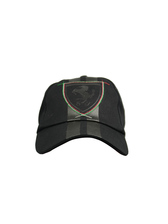shoes: (30, 70, 133, 162)
